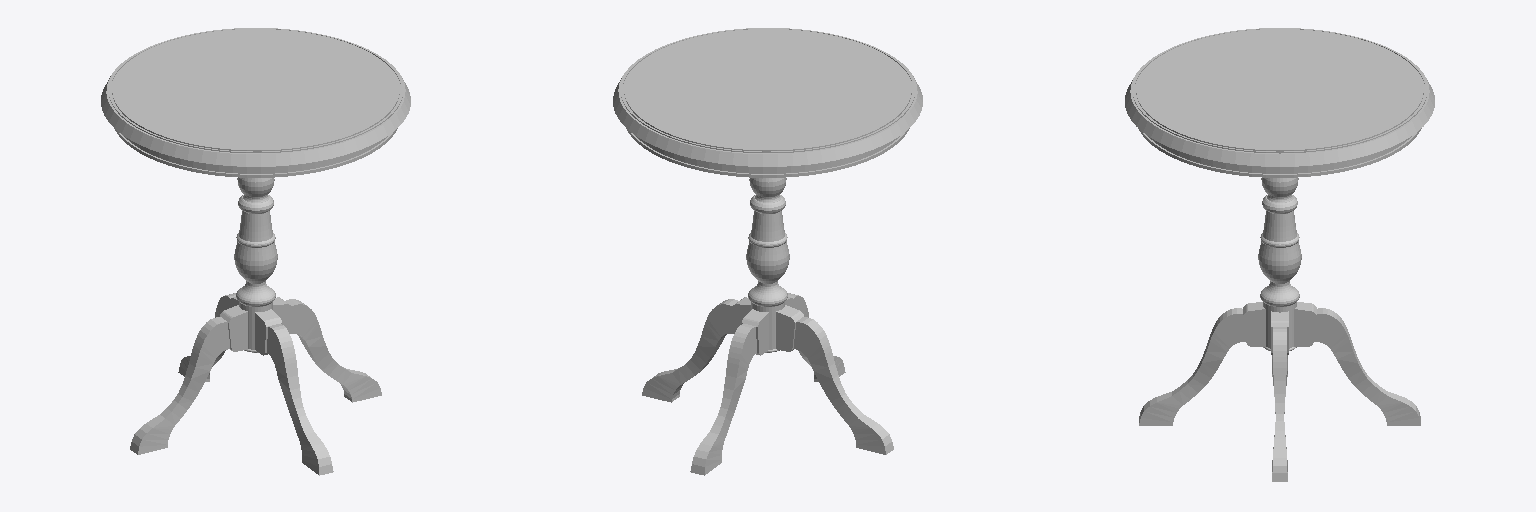
Rendered from Mesita.obj.
3 renders of one model, left to right at view 1: azimuth 30°, elevation 25°; view 2: azimuth 150°, elevation 25°; view 3: azimuth 270°, elevation 25°, orthographic.
Parts seen in each view (by area): view 1: Mesh; view 2: Mesh; view 3: Mesh.
Boxes of the visible parts, x1=… form: Mesh: x1=101, y1=28, x2=410, y2=475; Mesh: x1=613, y1=28, x2=922, y2=475; Mesh: x1=1125, y1=28, x2=1434, y2=481.
Bounding box in the file's own units: 0.0923 × 0.109 × 0.0923.